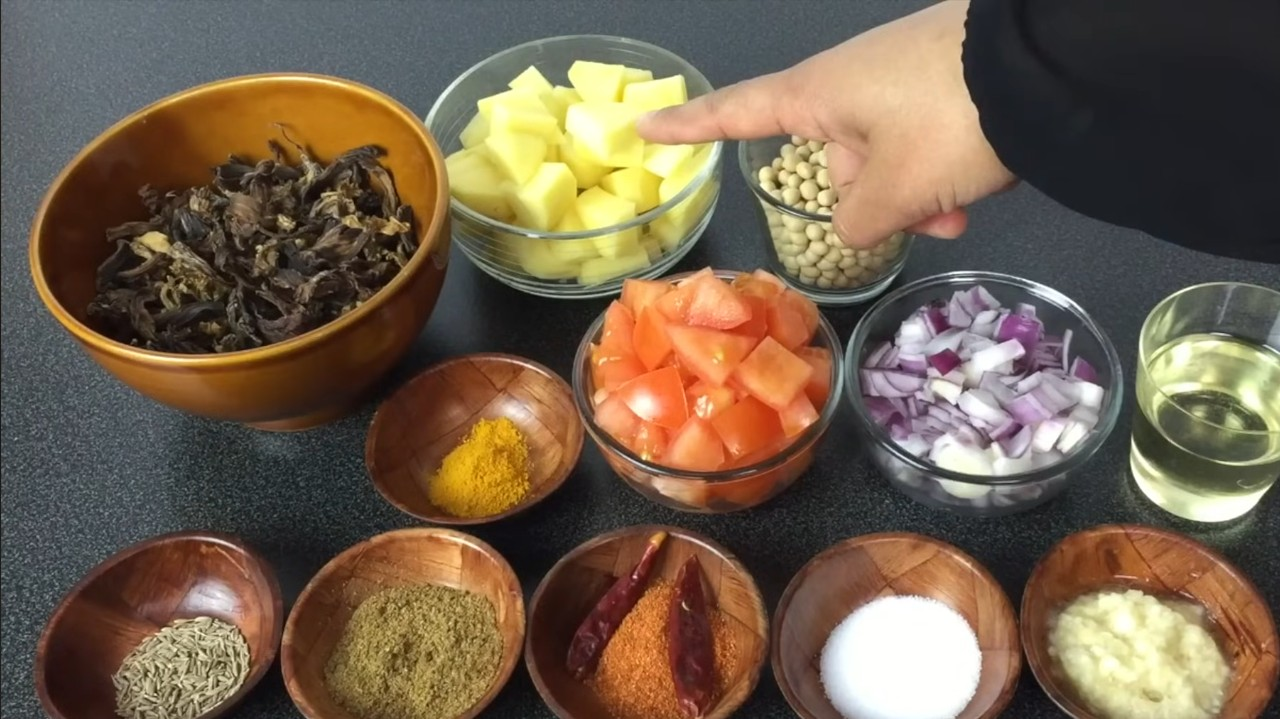gundruk: (93, 133, 392, 345)
